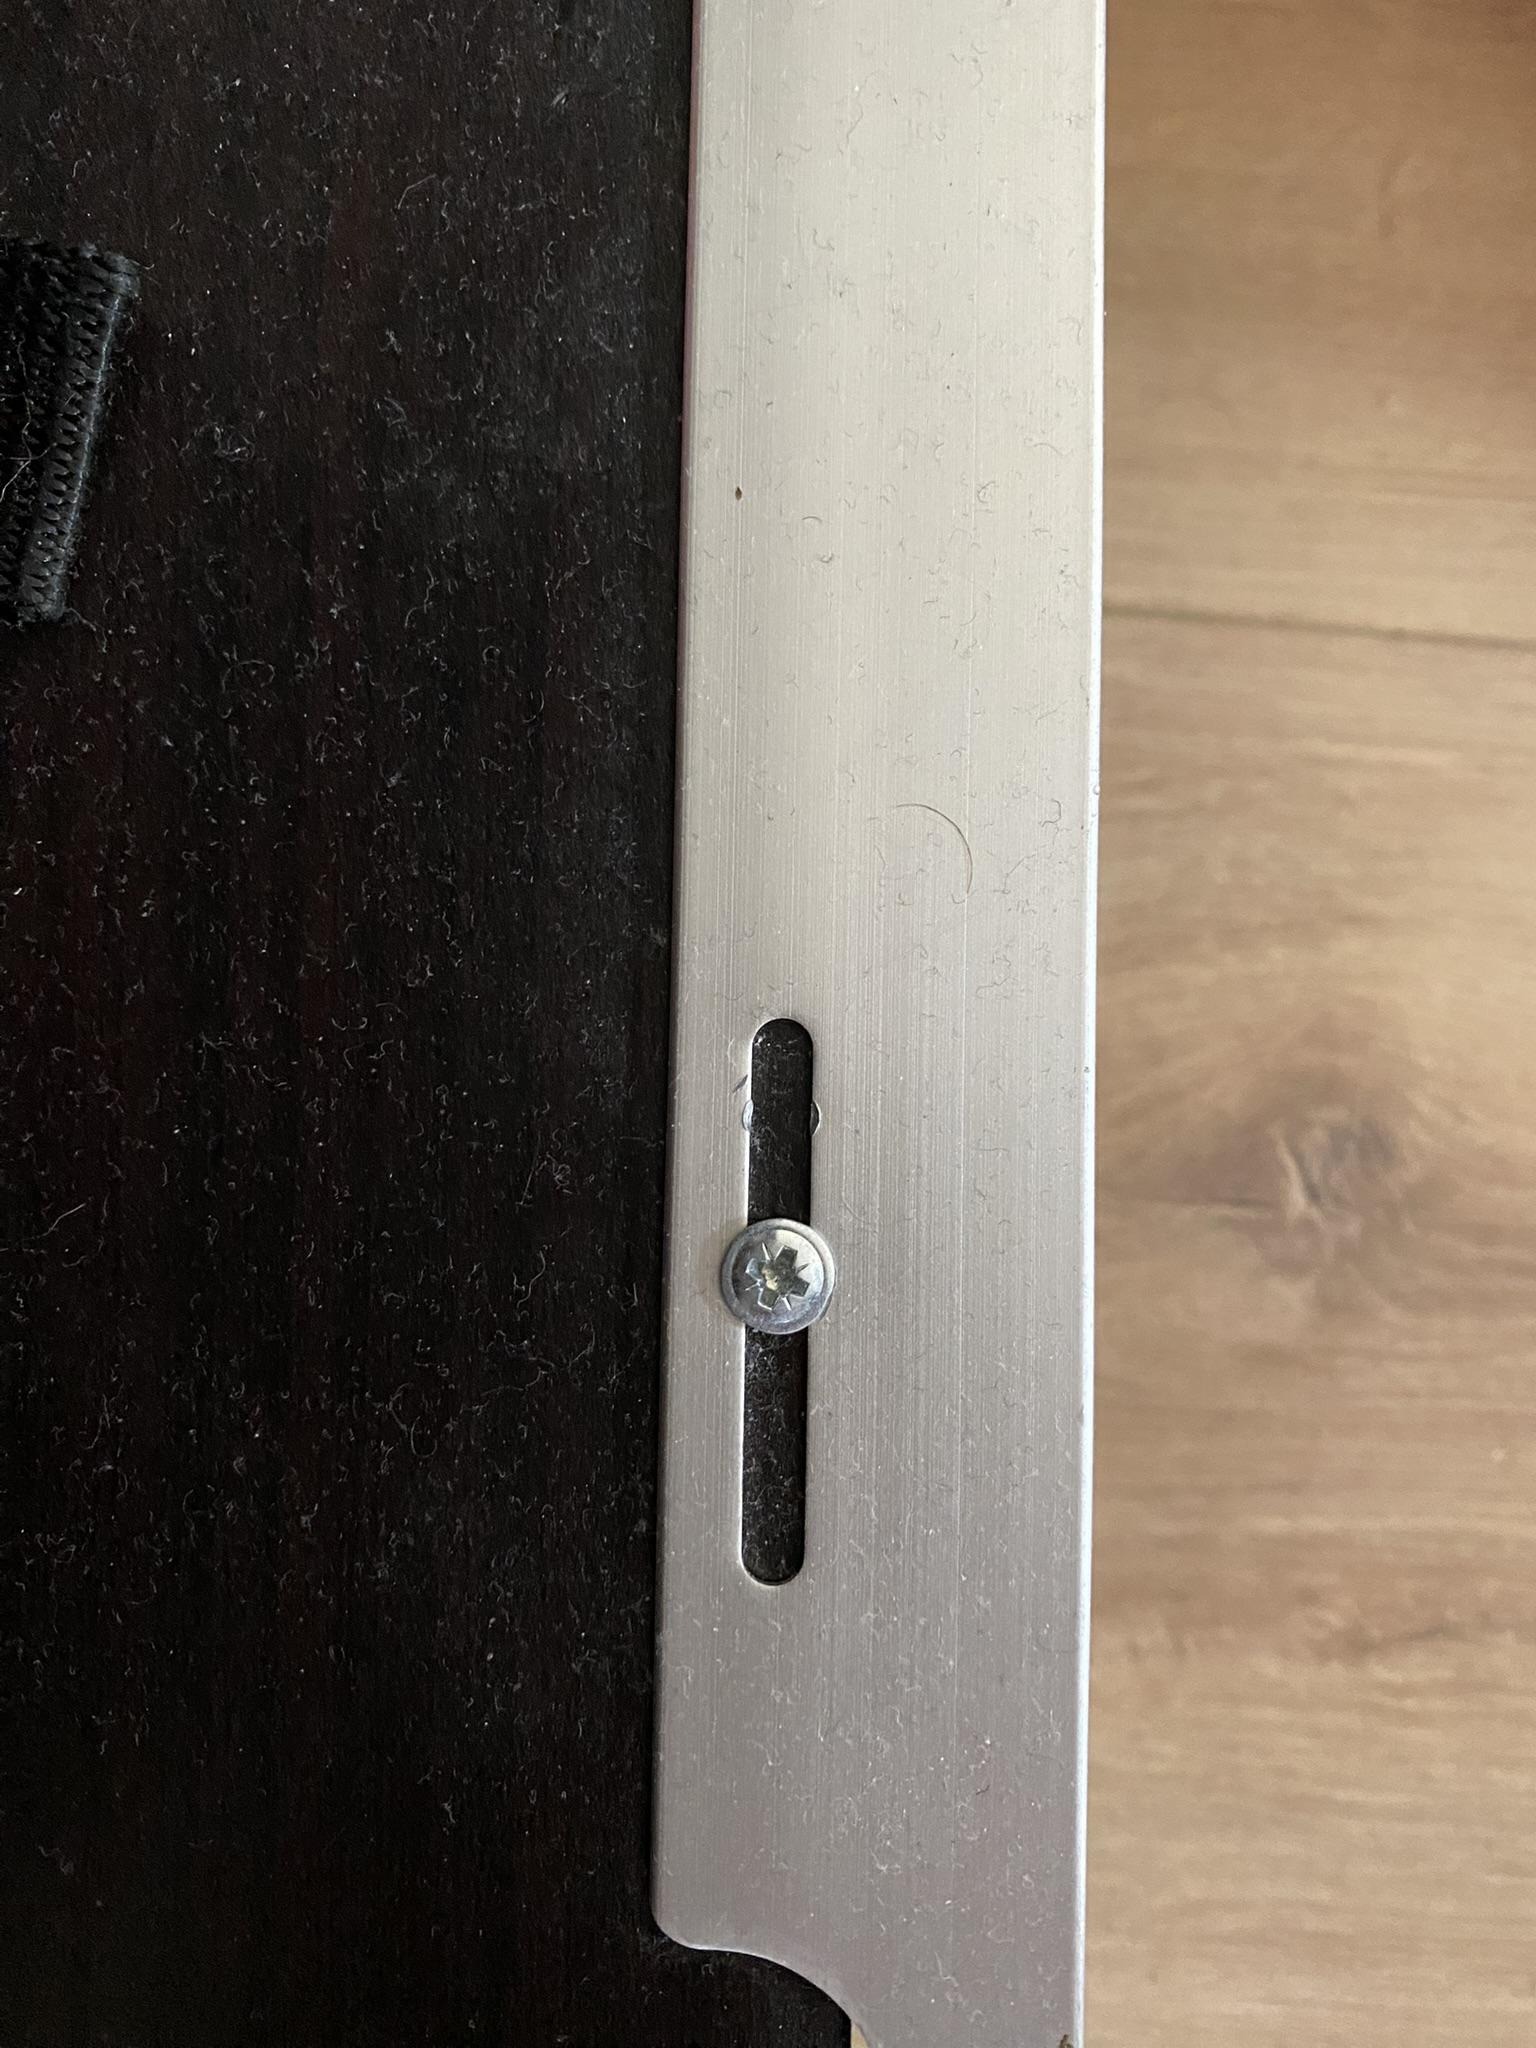PH: (715, 1214, 841, 1335)
